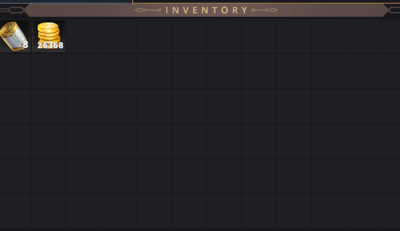gold: (33, 19, 65, 52)
